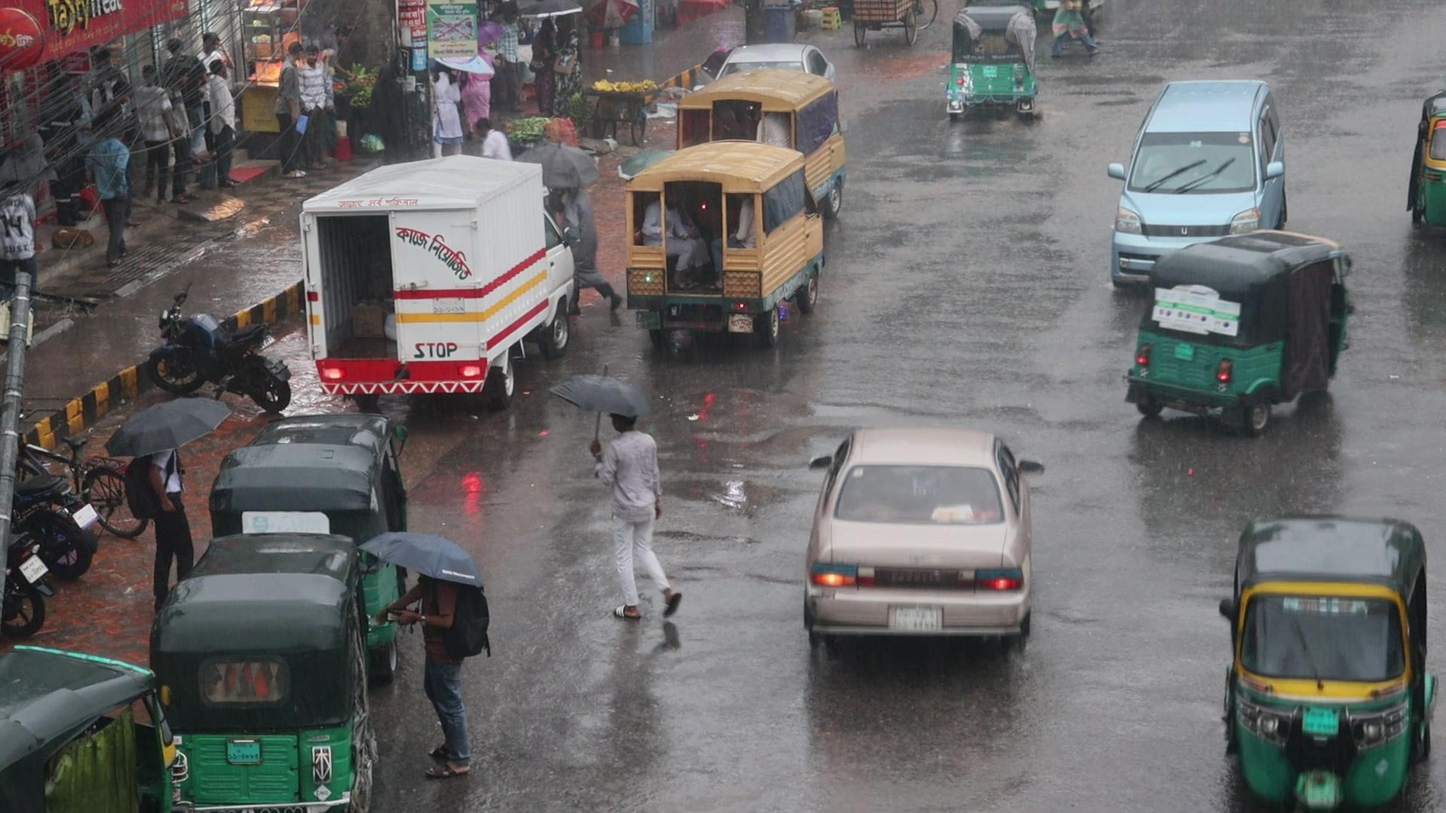Car: (802, 427, 1045, 654), (1107, 79, 1286, 255)
Truck: (624, 139, 824, 345)
